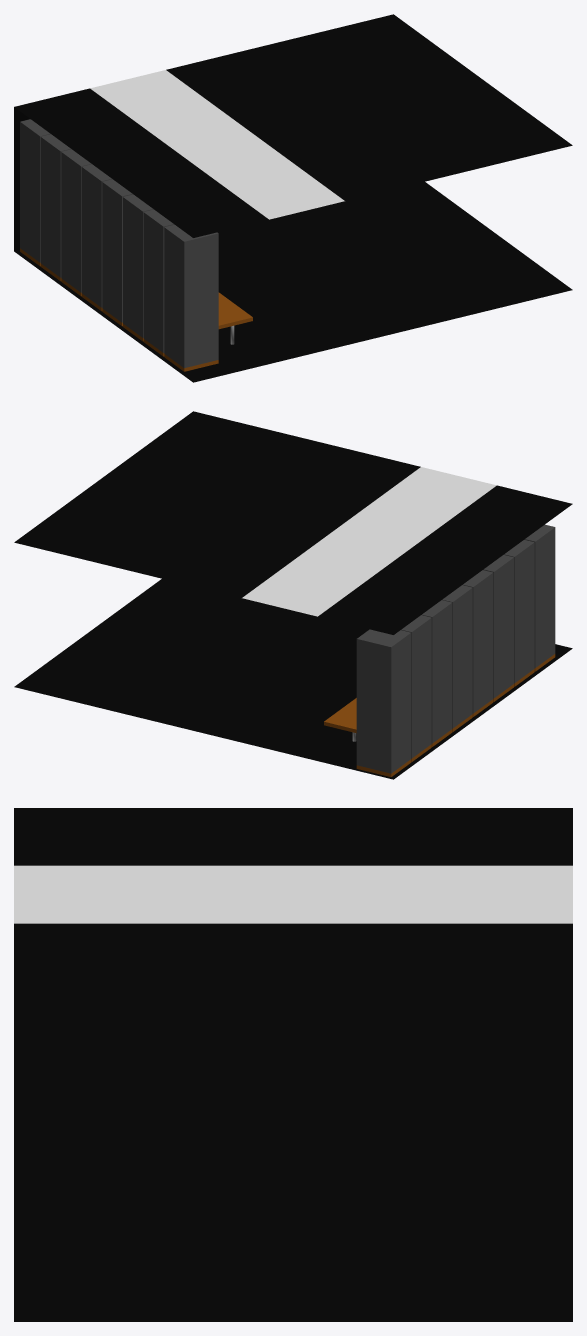
File: TeamLockerRoom.fbx
3 views of the same model, one above another, from view 1: azimuth 30°, elevation 25°; view 2: azimuth 150°, elevation 25°; view 3: azimuth 270°, elevation 25° (orthographic). The views are drawn at different scales.
Visible parts, largest first — view 1: Room, Locker.007, Locker.006, Locker, Locker.004, Locker.001, Locker.003, Locker.005, Locker.002, Bench; view 2: Room, Locker.005, Locker.007, Locker.001, Locker.003, Locker.002, Locker.004, Locker, Locker.006, Bench; view 3: Room.
Boxes of the visible parts, x1,y1,x2,y2 form: Room: [14, 14, 572, 382]; Locker.007: [164, 224, 218, 371]; Locker.006: [143, 209, 174, 356]; Locker: [81, 164, 112, 311]; Locker.004: [40, 134, 71, 281]; Locker.001: [102, 179, 132, 326]; Locker.003: [61, 149, 91, 296]; Locker.005: [20, 119, 50, 266]; Locker.002: [123, 194, 153, 341]; Bench: [218, 292, 252, 344]; Room: [14, 411, 572, 779]; Locker.005: [356, 629, 411, 776]; Locker.007: [524, 524, 555, 671]; Locker.001: [462, 570, 493, 716]; Locker.003: [422, 600, 452, 746]; Locker.002: [483, 555, 513, 701]; Locker.004: [401, 615, 431, 762]; Locker: [442, 585, 472, 732]; Locker.006: [504, 540, 534, 686]; Bench: [324, 698, 356, 741]; Room: [14, 808, 572, 1321].
Bounding box in the file's own units: 1100 × 400 × 900.
